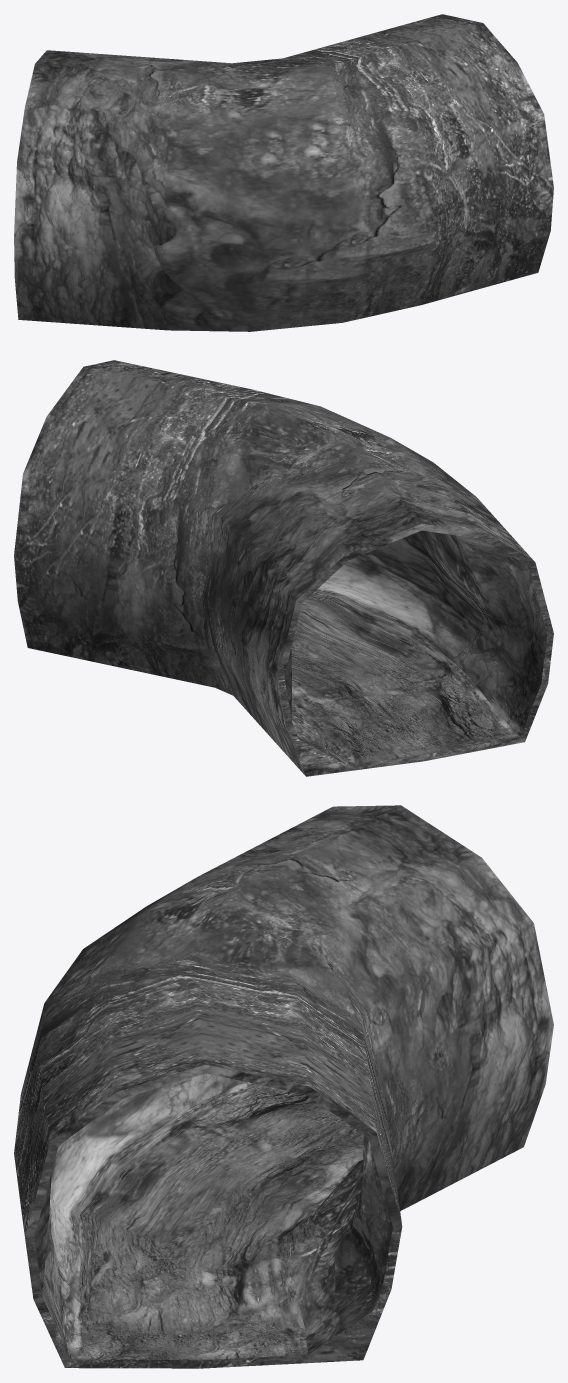
File: corridor6.fbx
The picture shows the model from 3 angles, top to bottom: view 1: azimuth 30°, elevation 25°; view 2: azimuth 150°, elevation 25°; view 3: azimuth 270°, elevation 25°; orthographic projection. The views are drawn at different scales.
Visible parts, largest first — view 1: corridorA_curve1_cave4; view 2: corridorA_curve1_cave4; view 3: corridorA_curve1_cave4.
Part boxes in pixels (<box>): corridorA_curve1_cave4: <box>14,14,553,331</box>; corridorA_curve1_cave4: <box>14,360,553,776</box>; corridorA_curve1_cave4: <box>14,805,553,1368</box>.
Bounding box in the file's own units: 580 × 264 × 425.
1 material, 1 textured.
